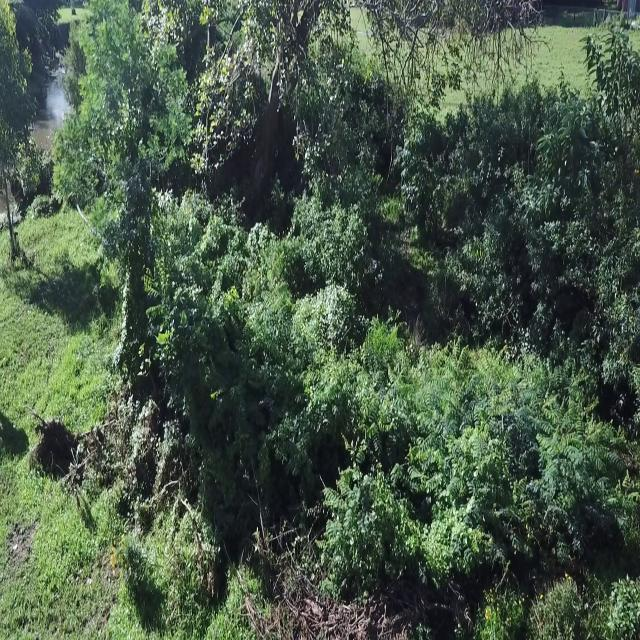Mysore-Thorn-Weed: (403, 393, 517, 554), (526, 383, 616, 566), (318, 445, 378, 592), (257, 265, 289, 349)
